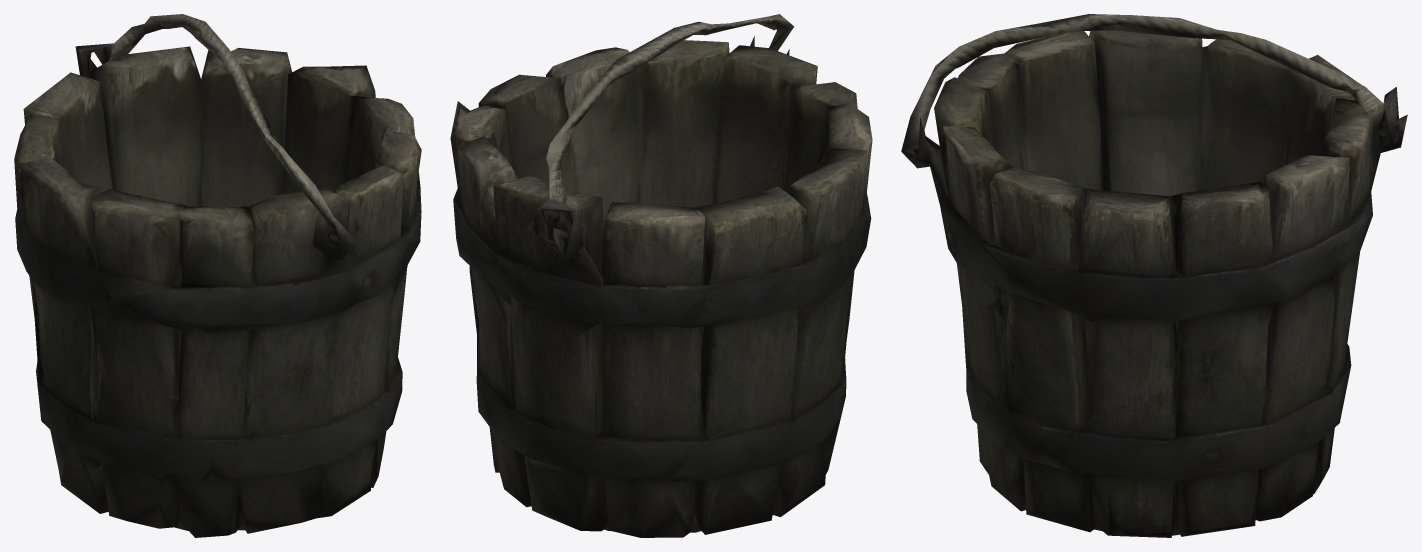
The model's file is wooden+bucket+3d+model.glb.
3 views of the same model, side by side, from view 1: azimuth 30°, elevation 25°; view 2: azimuth 150°, elevation 25°; view 3: azimuth 270°, elevation 25° (orthographic). The views are drawn at different scales.
Visible parts, largest first — view 1: tripo_node_d21bac07-e020-4b66-ba2a-5c31f420affe; view 2: tripo_node_d21bac07-e020-4b66-ba2a-5c31f420affe; view 3: tripo_node_d21bac07-e020-4b66-ba2a-5c31f420affe.
Boxes of the visible parts, x1,y1,x2,y2 form: tripo_node_d21bac07-e020-4b66-ba2a-5c31f420affe: (14, 14, 421, 537); tripo_node_d21bac07-e020-4b66-ba2a-5c31f420affe: (450, 14, 872, 537); tripo_node_d21bac07-e020-4b66-ba2a-5c31f420affe: (901, 14, 1407, 537).
Bounding box in the file's own units: 0.8527 × 1 × 0.9898.
1 material, 1 textured.
